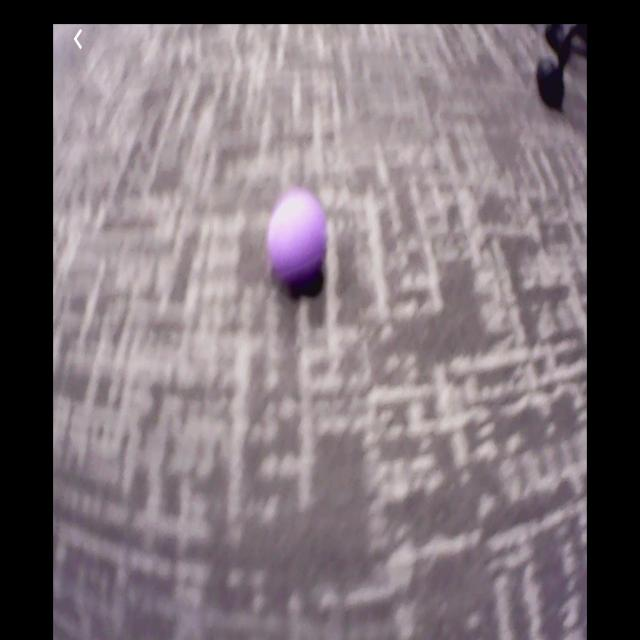ball: (270, 194, 327, 283)
